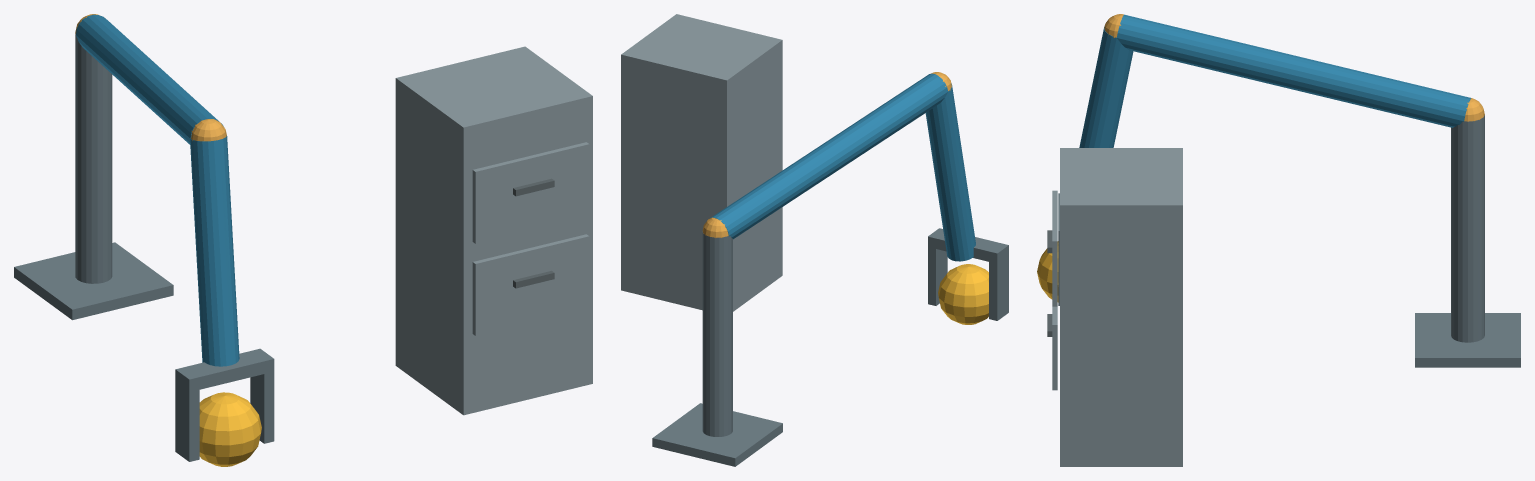
The picture shows the model from 3 angles, left to right: view 1: azimuth 30°, elevation 25°; view 2: azimuth 150°, elevation 25°; view 3: azimuth 270°, elevation 25°; orthographic projection. The views are drawn at different scales.
Visible parts, largest first — view 1: cabinet_1 body, moving link 2, fixed post, cabinet_1 drawer front.001, cabinet_1 drawer front, pedestal, moving link 1, ball ball_1, gripper bridge, gripper finger -1, gripper finger 1, joint 2; view 2: cabinet_1 body, moving link 1, fixed post, moving link 2, pedestal, ball ball_1, gripper finger -1, gripper bridge, gripper finger 1, joint 1; view 3: cabinet_1 body, moving link 1, fixed post, pedestal, moving link 2, ball ball_1, cabinet_1 drawer front.001, cabinet_1 drawer front.
Part boxes in pixels (x1,y1,x2,y2): cabinet_1 body: (395, 46, 592, 415); moving link 2: (190, 135, 239, 366); fixed post: (75, 31, 112, 283); cabinet_1 drawer front.001: (472, 142, 589, 243); cabinet_1 drawer front: (472, 234, 589, 335); pedestal: (14, 242, 173, 320); moving link 1: (76, 14, 223, 144); ball ball_1: (199, 392, 261, 466); gripper bridge: (175, 348, 274, 392); gripper finger -1: (175, 382, 199, 461); gripper finger 1: (250, 371, 274, 443); joint 2: (191, 119, 226, 141); cabinet_1 body: (621, 14, 782, 311); moving link 1: (710, 73, 948, 239); fixed post: (702, 232, 732, 436); moving link 2: (925, 83, 975, 261); pedestal: (652, 403, 782, 466); ball ball_1: (938, 264, 988, 324); gripper finger -1: (989, 256, 1008, 320); gripper bridge: (928, 228, 1008, 263); gripper finger 1: (928, 247, 947, 305); joint 1: (702, 217, 728, 237); cabinet_1 body: (1060, 148, 1182, 466); moving link 1: (1116, 14, 1471, 127); fixed post: (1451, 115, 1484, 342); pedestal: (1415, 313, 1520, 367); moving link 2: (1079, 27, 1133, 147); ball ball_1: (1037, 241, 1058, 302); cabinet_1 drawer front.001: (1052, 190, 1057, 306); cabinet_1 drawer front: (1052, 306, 1057, 390).
Size of the model in its own units: 1 by 0.7689 by 1.14.
